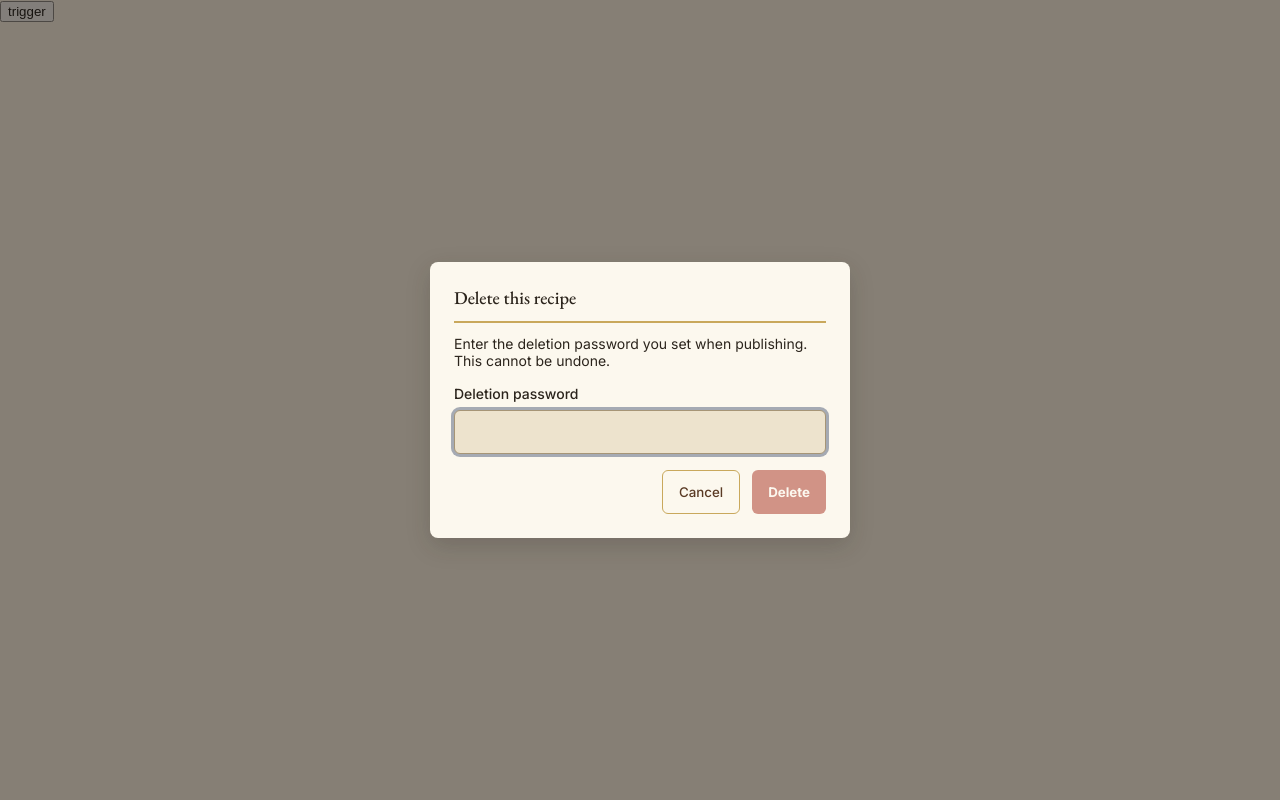
Test: DeleteRecipeDialog › 429でerrRateLimited文言を表示する
The image size is (1280, 800).
Type "pw" into the password field labelled "Deletion password" at x=640, y=432, box [454, 410, 826, 454]
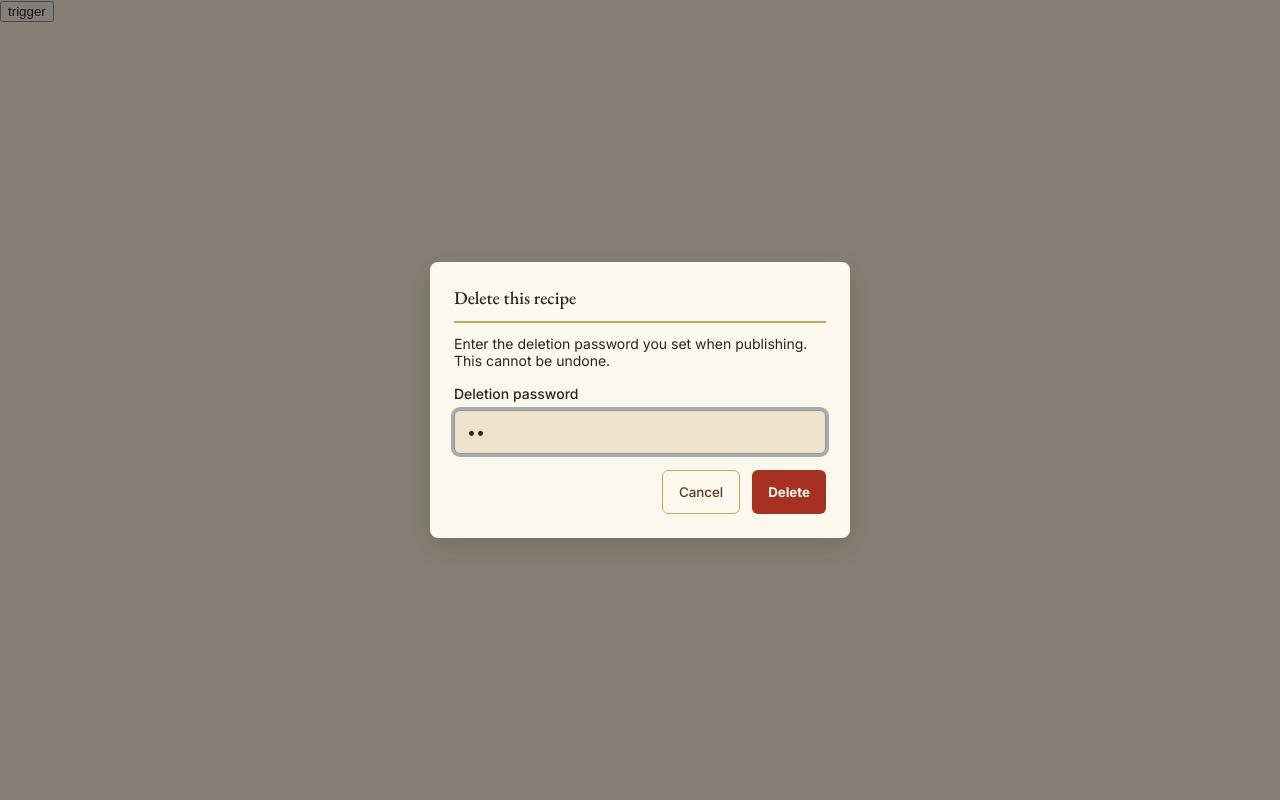
Click the button "Delete" at x=789, y=492, box [752, 470, 826, 514]
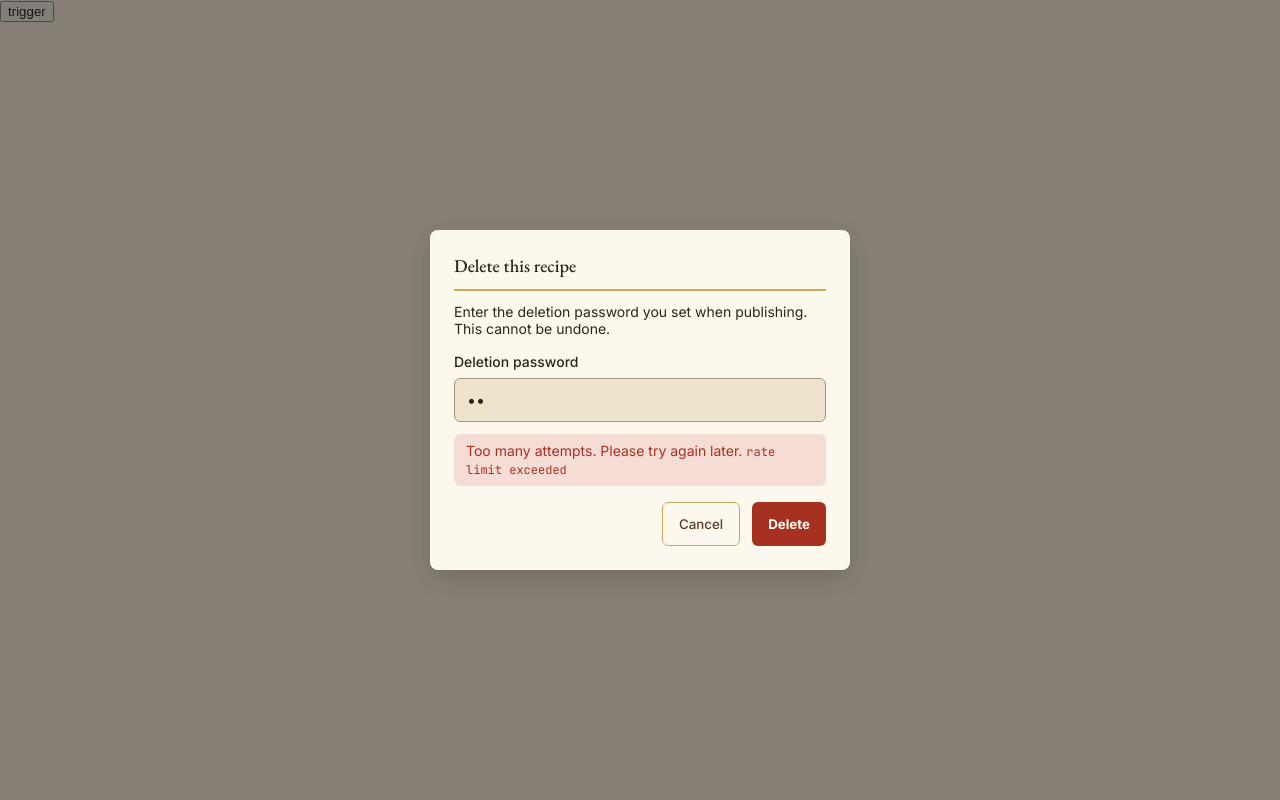
Check: the text "Too many attempts. Please try again later." is shown, box [466, 442, 742, 459]
